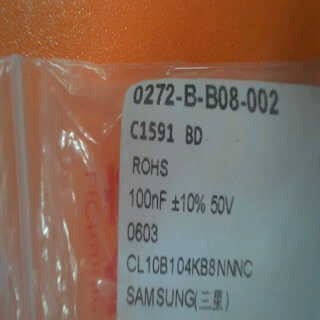100nF: (124, 184, 173, 218)
